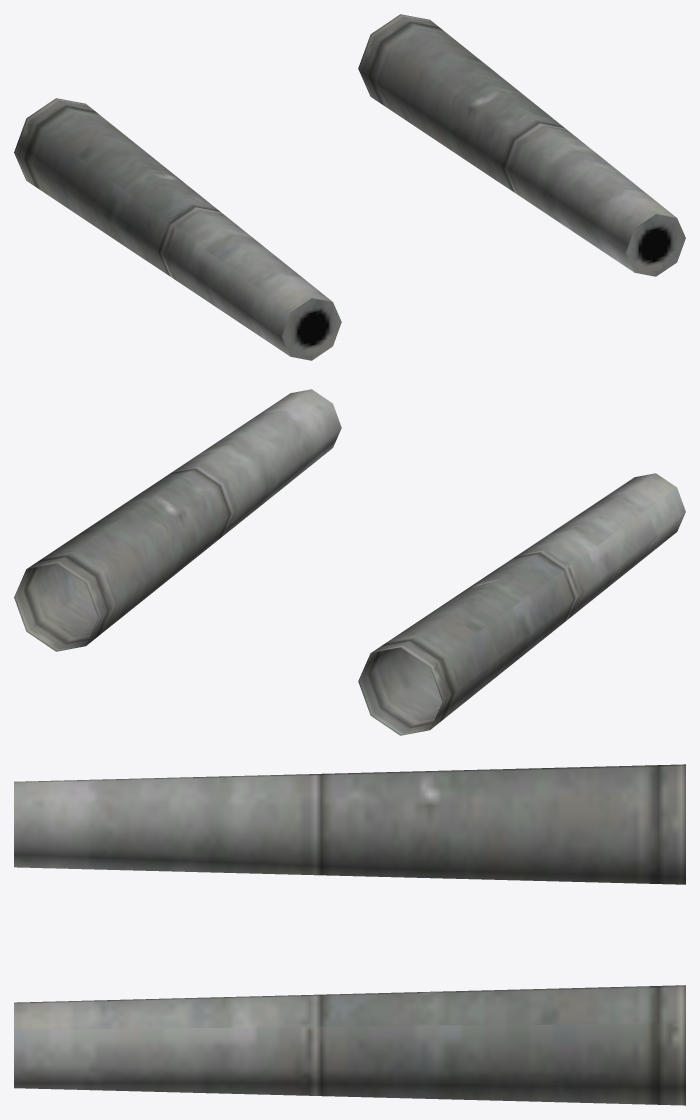
Rendered from ywing_weapon1_s01_l0.fbx.
3 renders of one model, top to bottom at view 1: azimuth 30°, elevation 25°; view 2: azimuth 150°, elevation 25°; view 3: azimuth 270°, elevation 25°, orthographic. The views are drawn at different scales.
Parts seen in each view (by area): view 1: mesh_node; view 2: mesh_node; view 3: mesh_node.
Boxes of the visible parts, x1,y1,x2,y2 form: mesh_node: (14,14,685,360); mesh_node: (14,389,685,735); mesh_node: (14,764,685,1105).
Bounding box in the file's own units: 1.11 × 0.219 × 1.15.
Materials: 1 (1 with a texture image).
